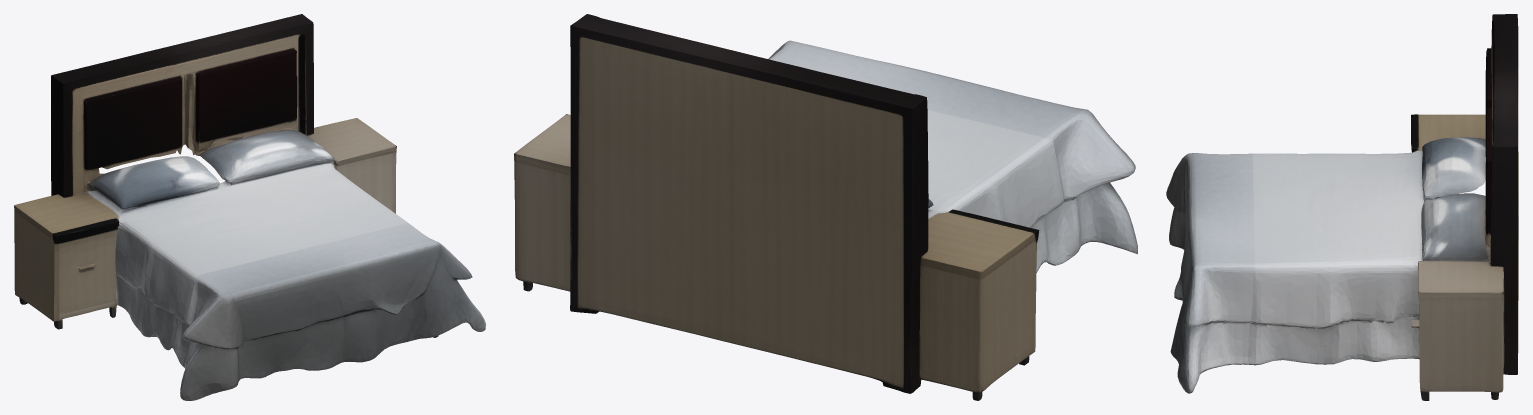
The model's file is 1570_sevile_bedroom_suet_2pc.glb.
The picture shows the model from 3 angles, left to right: view 1: azimuth 30°, elevation 25°; view 2: azimuth 150°, elevation 25°; view 3: azimuth 270°, elevation 25°; orthographic projection. The views are drawn at different scales.
Visible parts, largest first — view 1: world; view 2: world; view 3: world.
Part boxes in pixels (x1,y1,x2,y2): world: [14, 14, 485, 400]; world: [514, 14, 1137, 400]; world: [1166, 14, 1518, 400].
Bounding box in the file's own units: 0.9948 × 0.5973 × 0.8129.
1 material, 1 textured.
